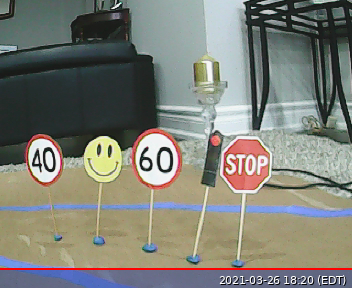Person: (82, 136, 123, 183)
Red Traffic Light: (199, 129, 224, 186)
Speed Limit 40: (25, 133, 63, 186)
Speed Limit 60: (131, 128, 182, 189)
Stop Sign: (220, 135, 272, 193)
